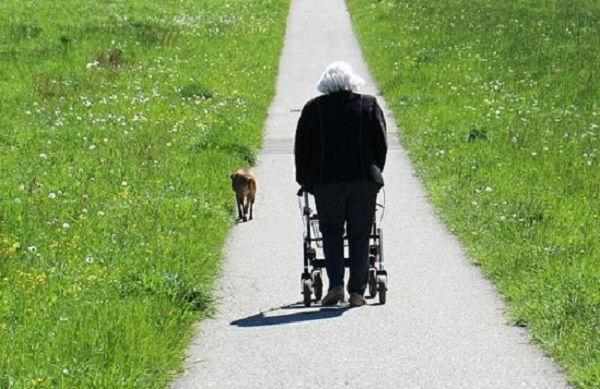walking_frame: (294, 61, 388, 307)
